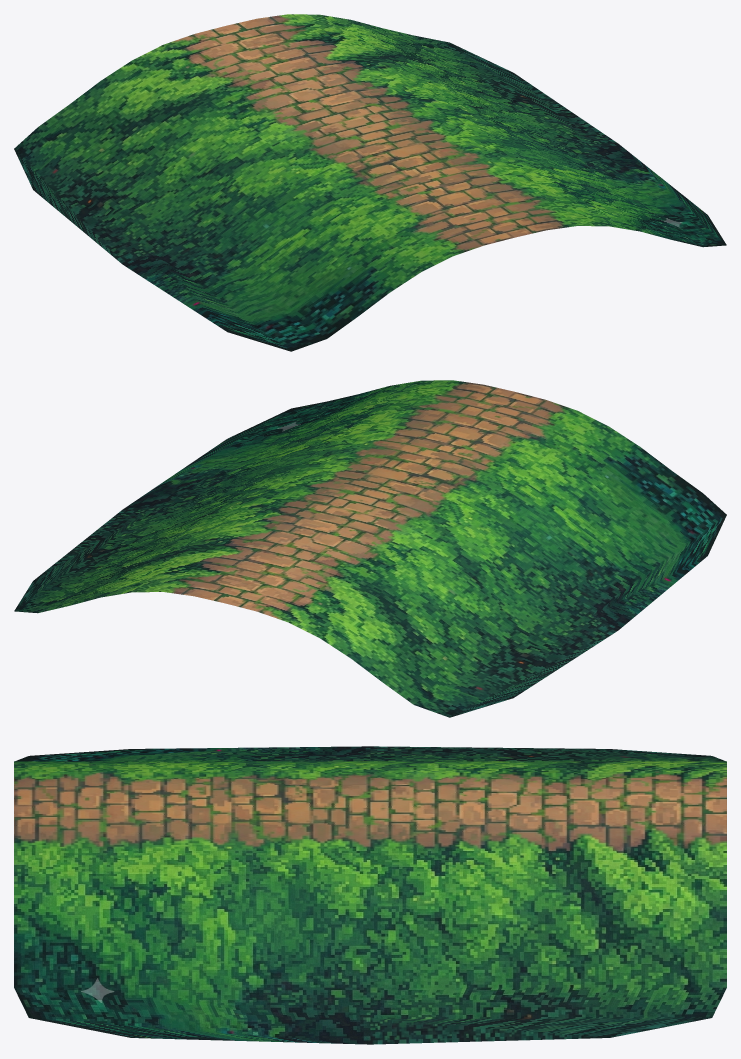
Rendered from Ground 1.fbx.
3 renders of one model, top to bottom at view 1: azimuth 30°, elevation 25°; view 2: azimuth 150°, elevation 25°; view 3: azimuth 270°, elevation 25°, orthographic. The views are drawn at different scales.
Visible parts, largest first — view 1: Plane; view 2: Plane; view 3: Plane.
Part boxes in pixels (<box>): Plane: <box>14,14,726,351</box>; Plane: <box>14,380,726,717</box>; Plane: <box>14,746,726,1044</box>.
Bounding box in the file's own units: 198 × 27.61 × 200.
Materials: 1 (1 with a texture image).
